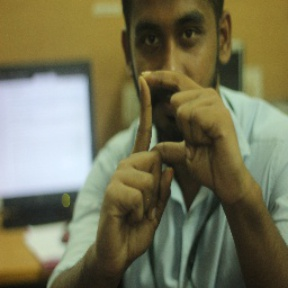D: (121, 63, 228, 187)
